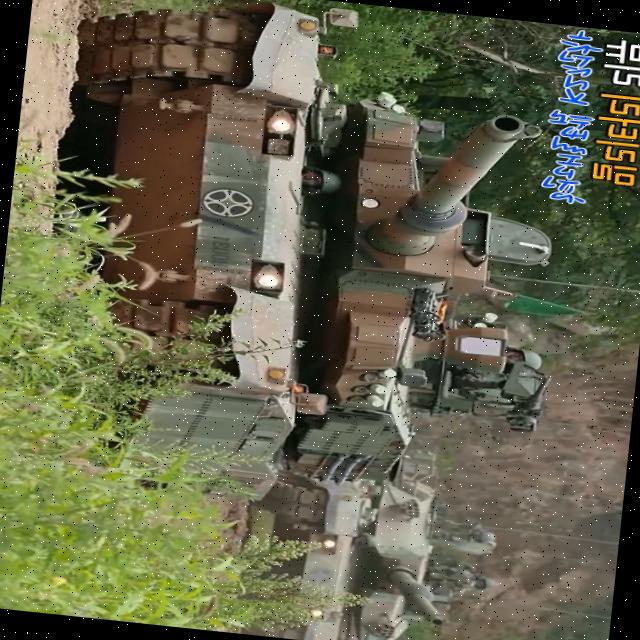korea tank: (32, 0, 586, 524)
